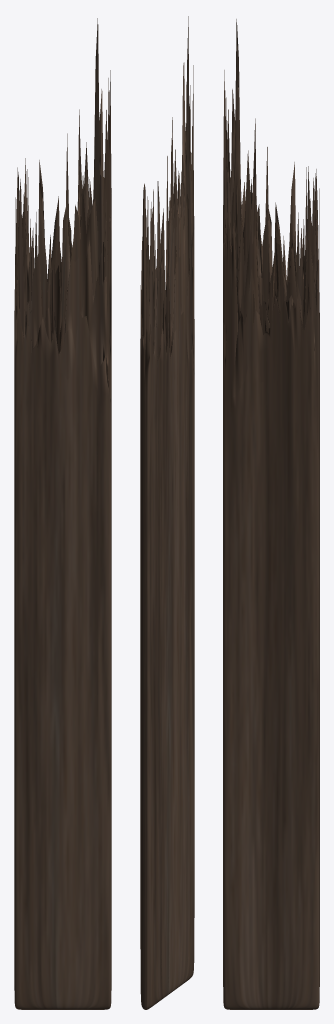
Rendered from Broken Wood Solo.fbx.
3 renders of one model, left to right at view 1: azimuth 90°, elevation 25°; view 2: azimuth 150°, elevation 25°; view 3: azimuth 270°, elevation 25°, orthographic. The views are drawn at different scales.
Visible parts, largest first — view 1: Cube; view 2: Cube; view 3: Cube.
Part boxes in pixels (<box>): Cube: <box>14,18,111,1009</box>; Cube: <box>140,16,194,1009</box>; Cube: <box>223,19,319,1009</box>.
Size of the model in its own units: 23.97 by 2252 by 199.
Materials: 1 (1 with a texture image).
